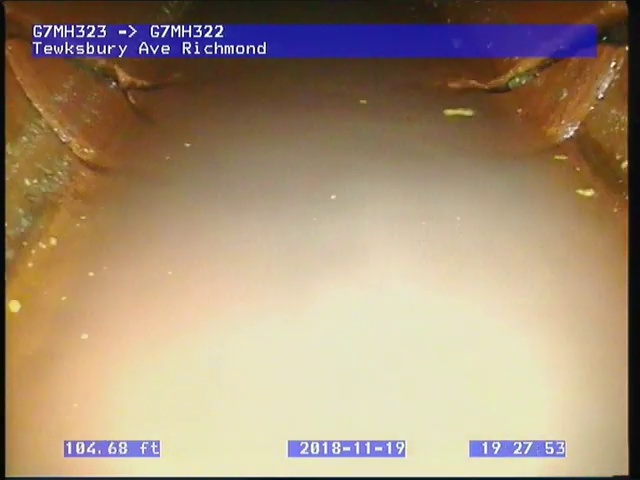crack: (8, 25, 173, 133), (447, 16, 628, 97)
